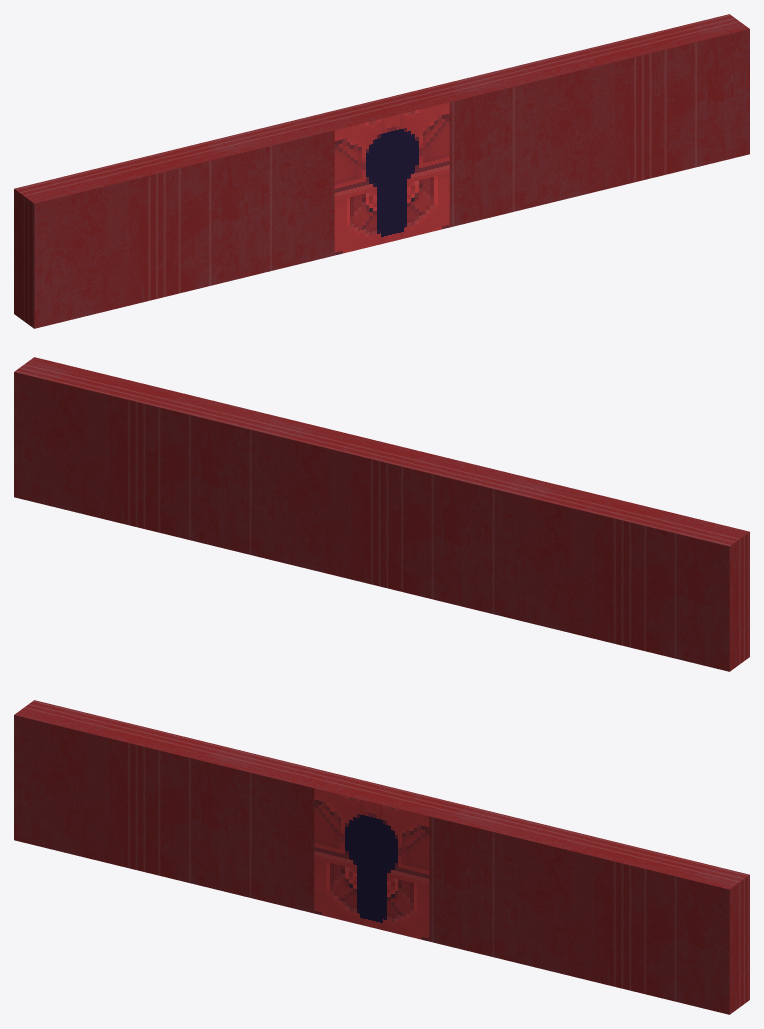
The model's file is Gate.fbx.
The picture shows the model from 3 angles, top to bottom: view 1: azimuth 30°, elevation 25°; view 2: azimuth 150°, elevation 25°; view 3: azimuth 330°, elevation 25°; orthographic projection.
Parts seen in each view (by area): view 1: Cube; view 2: Cube; view 3: Cube.
Boxes of the visible parts, left/top/right/bottom form: Cube: left=14, top=14, right=749, bottom=328; Cube: left=14, top=357, right=749, bottom=671; Cube: left=14, top=700, right=749, bottom=1014.
Bounding box in the file's own units: 2.95 × 0.4928 × 0.145.
